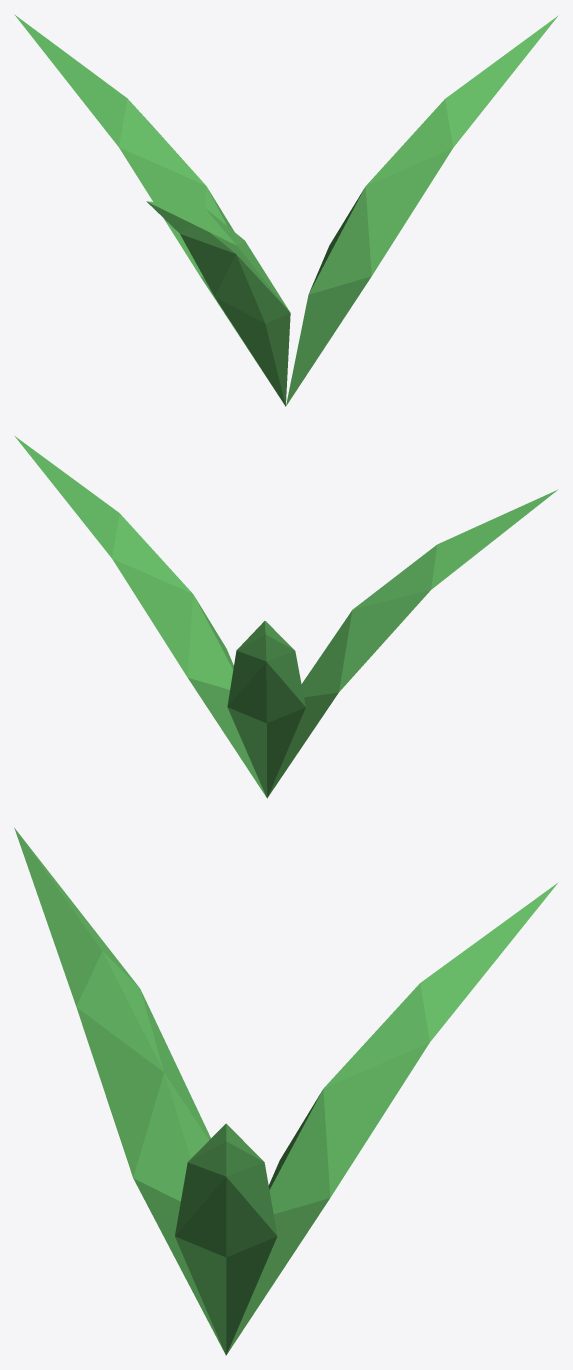
Rendered from Prop_Grass_Clump_1.gltf.
3 renders of one model, top to bottom at view 1: azimuth 30°, elevation 25°; view 2: azimuth 150°, elevation 25°; view 3: azimuth 270°, elevation 25°, orthographic. The views are drawn at different scales.
Parts seen in each view (by area): view 1: object1, object3, object2; view 2: object1, object3, object2; view 3: object3, object2, object1.
Part boxes in pixels (x1,y1,x2,y2): object1: (286,15,558,405); object3: (146,201,290,406); object2: (14,14,273,387); object1: (15,436,266,797); object3: (267,489,558,797); object2: (227,621,305,797); object3: (14,827,224,1352); object2: (226,882,558,1354); object1: (175,1123,277,1355).
Bounding box in the file's own units: 0.4864 × 0.302 × 0.3783.
